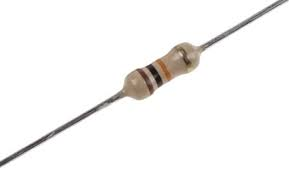resistor: (101, 39, 214, 113)
